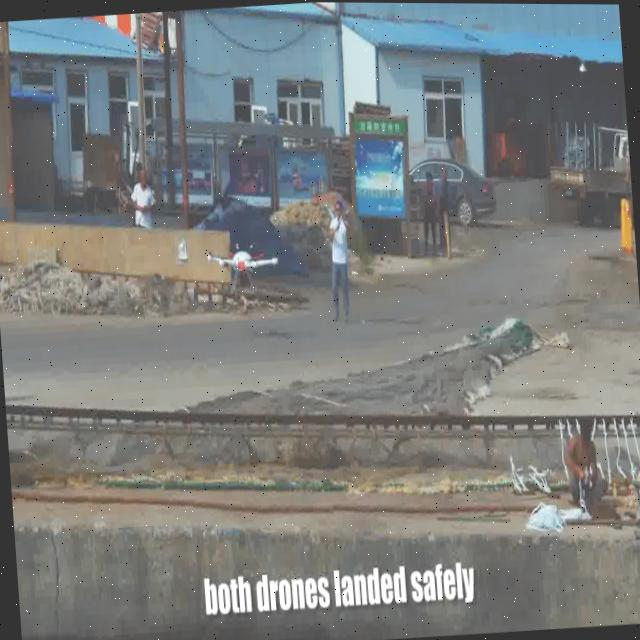drone: (199, 231, 280, 291)
